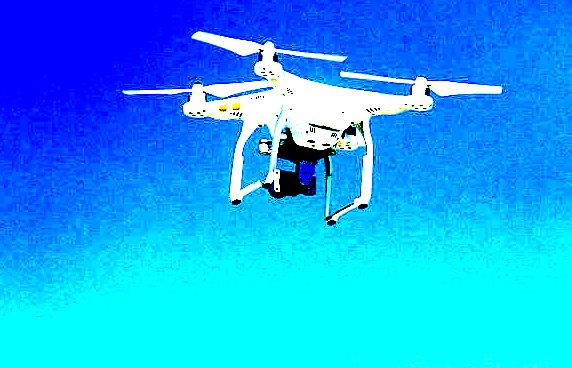Drone: (116, 21, 507, 233)
